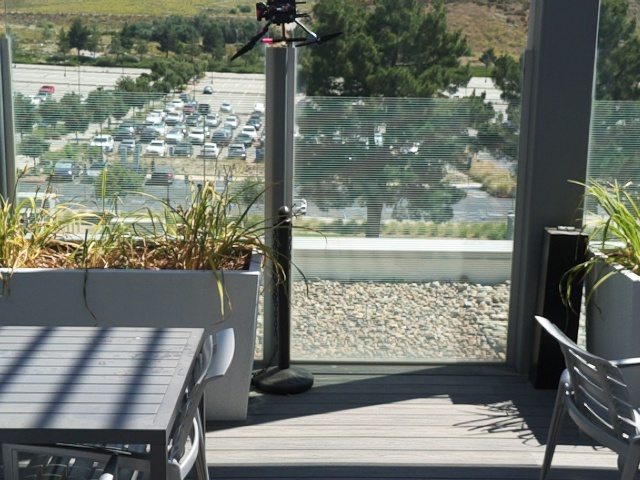quadcopter: (210, 4, 359, 61)
